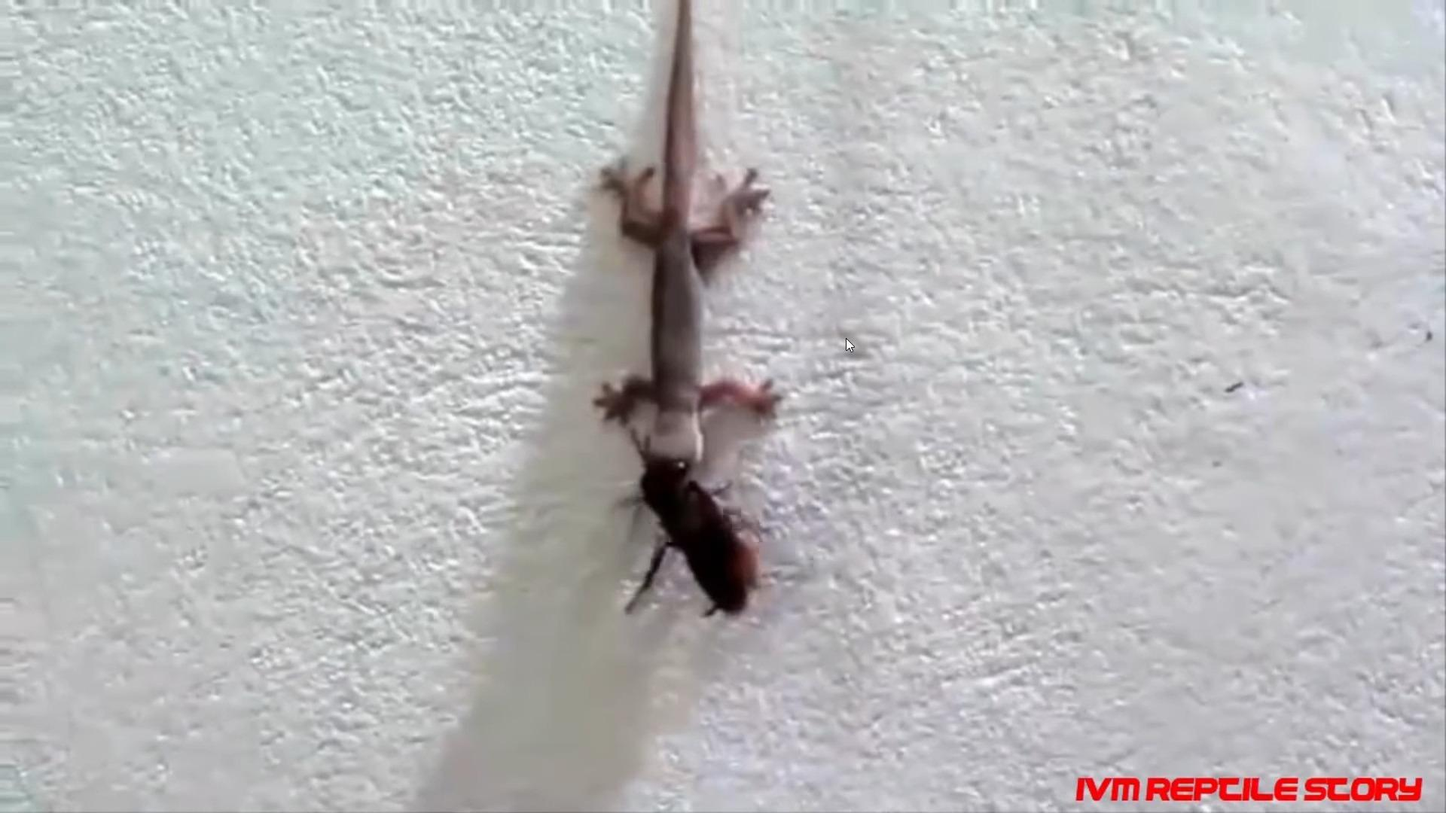cockroach: (628, 455, 747, 623)
lizard: (598, 26, 794, 479)
